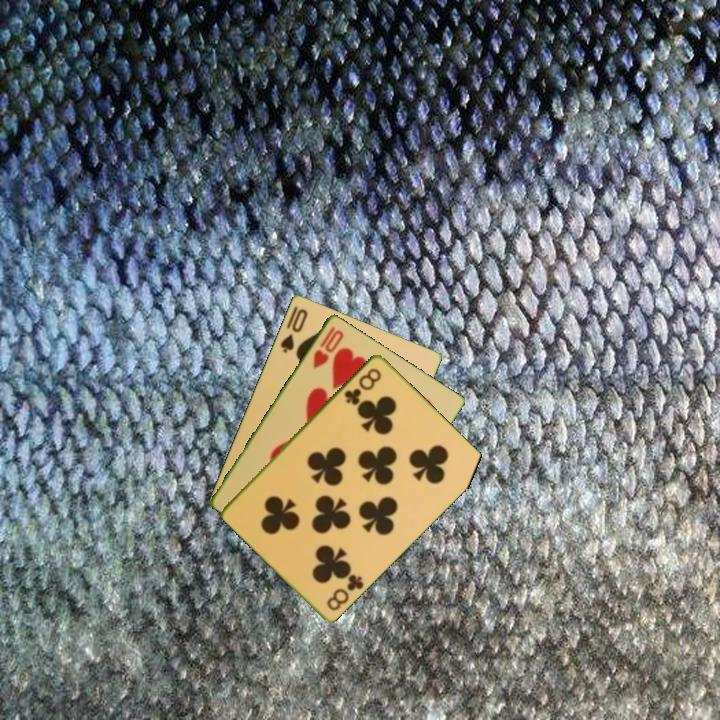10h: (309, 322, 347, 372)
10s: (276, 305, 310, 355)
8c: (340, 364, 384, 408), (323, 570, 367, 613)
